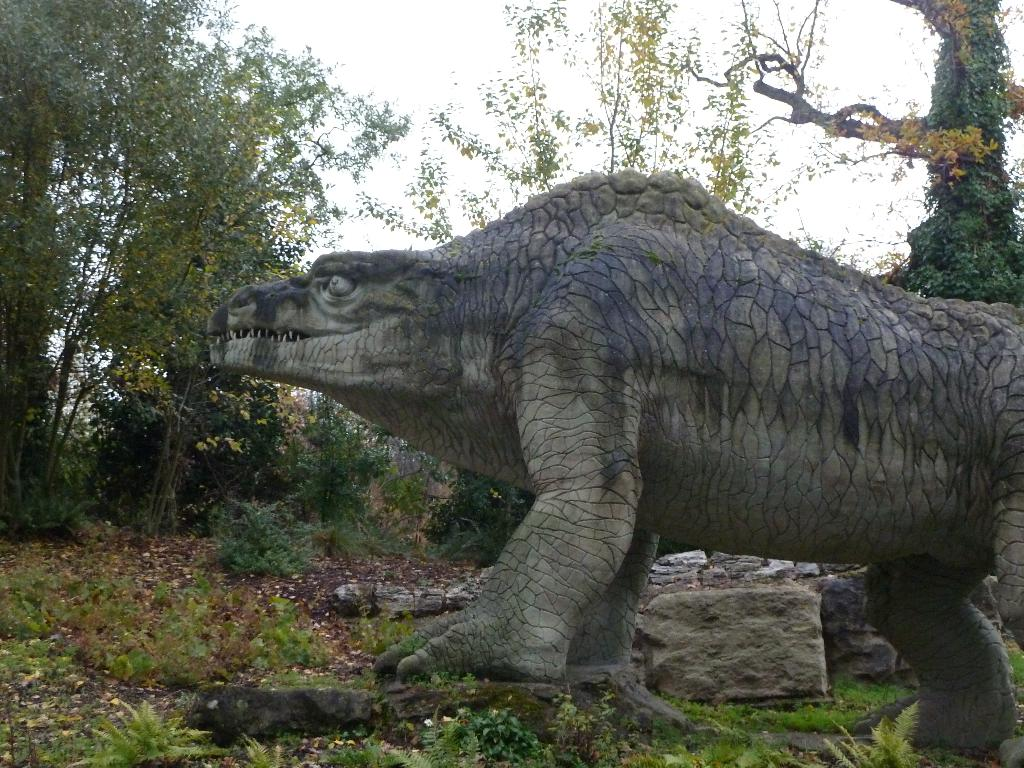Tree: (351, 0, 859, 508), (1, 0, 413, 525), (681, 0, 1024, 302)
